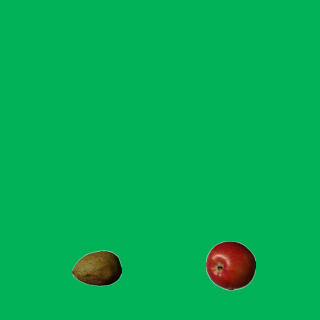Apple Braeburn: (205, 240, 255, 290)
Papaya: (71, 243, 121, 293)
